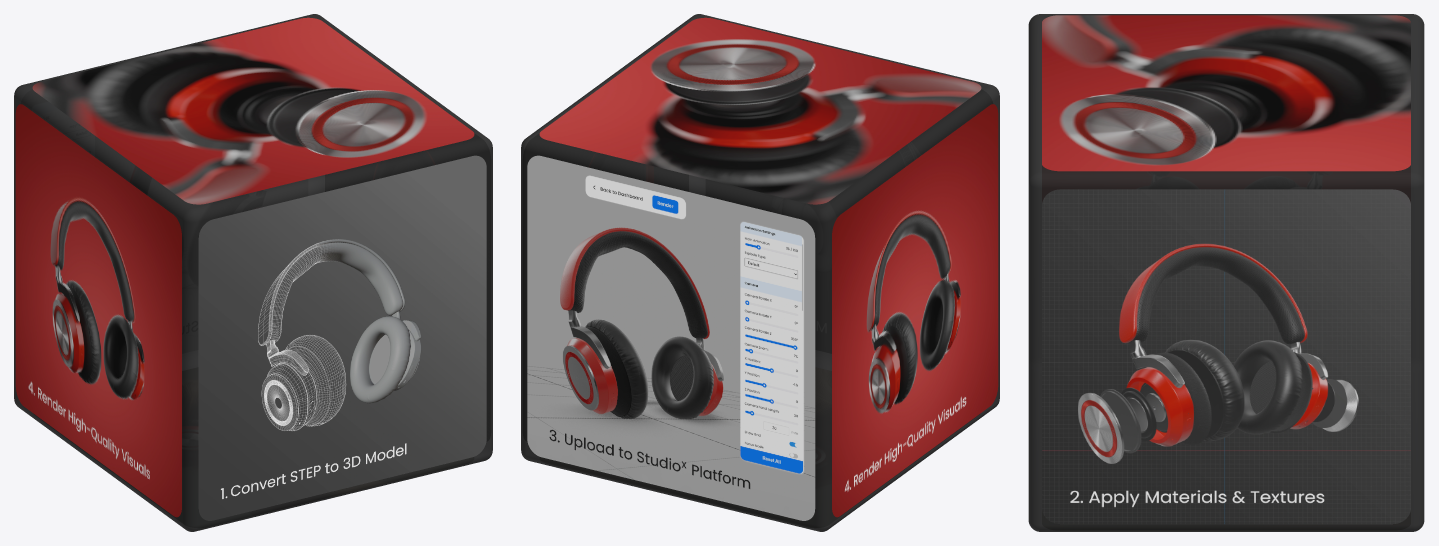
Rendered from studiox_cube_glb_v5.glb.
3 renders of one model, left to right at view 1: azimuth 30°, elevation 25°; view 2: azimuth 150°, elevation 25°; view 3: azimuth 270°, elevation 25°, orthographic. The views are drawn at different scales.
Parts seen in each view (by area): view 1: 1, 4, TOP, Cube; view 2: 3, 4, TOP, Cube; view 3: 2, TOP, Cube.
Part boxes in pixels (x1=…): 1: x1=198, y1=155, x2=486, y2=520; 4: x1=15, y1=104, x2=181, y2=517; TOP: x1=32, y1=17, x2=474, y2=204; Cube: x1=14, y1=14, x2=492, y2=531; 3: x1=527, y1=155, x2=815, y2=520; 4: x1=832, y1=104, x2=998, y2=517; TOP: x1=539, y1=17, x2=981, y2=204; Cube: x1=521, y1=14, x2=999, y2=531; 2: x1=1042, y1=189, x2=1410, y2=524; TOP: x1=1042, y1=15, x2=1410, y2=171; Cube: x1=1028, y1=14, x2=1424, y2=531.
Bounding box in the file's own units: 2 × 2 × 2.
Materials: 7 (6 with a texture image).
